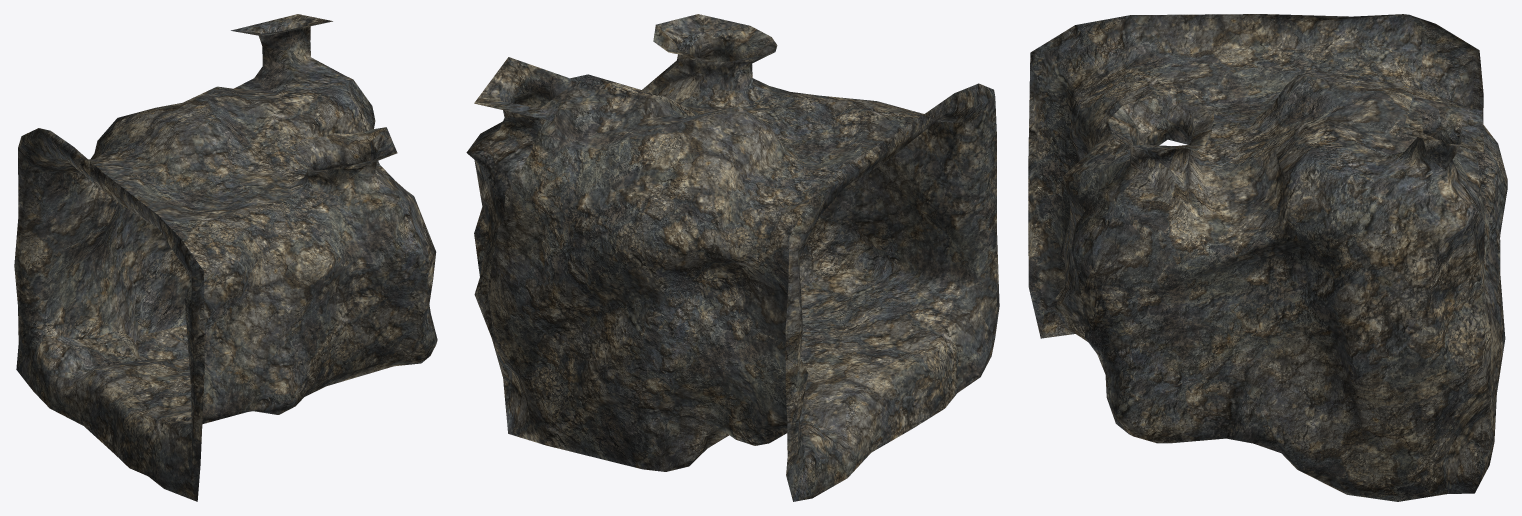
Rendered from Module15D_LOD1.fbx.
3 renders of one model, left to right at view 1: azimuth 30°, elevation 25°; view 2: azimuth 150°, elevation 25°; view 3: azimuth 270°, elevation 25°, orthographic. The views are drawn at different scales.
Visible parts, largest first — view 1: cave_el15D_1900:Group782; view 2: cave_el15D_1900:Group782; view 3: cave_el15D_1900:Group782.
Boxes of the visible parts, x1=… form: cave_el15D_1900:Group782: x1=14, y1=14, x2=437, y2=501; cave_el15D_1900:Group782: x1=466, y1=14, x2=999, y2=501; cave_el15D_1900:Group782: x1=1028, y1=14, x2=1507, y2=501.
Size of the model in its own units: 35.12 by 33.36 by 37.56.
